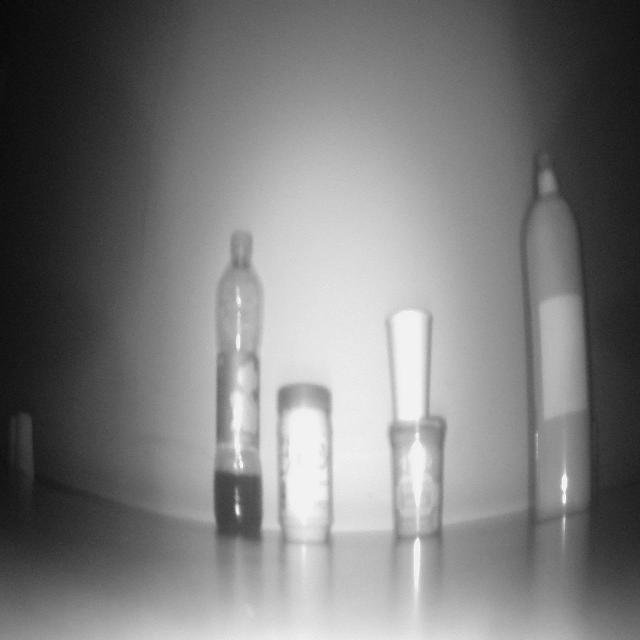targets: (520, 150, 600, 516), (214, 220, 263, 535), (282, 371, 327, 544), (397, 407, 442, 538), (392, 308, 431, 419)
